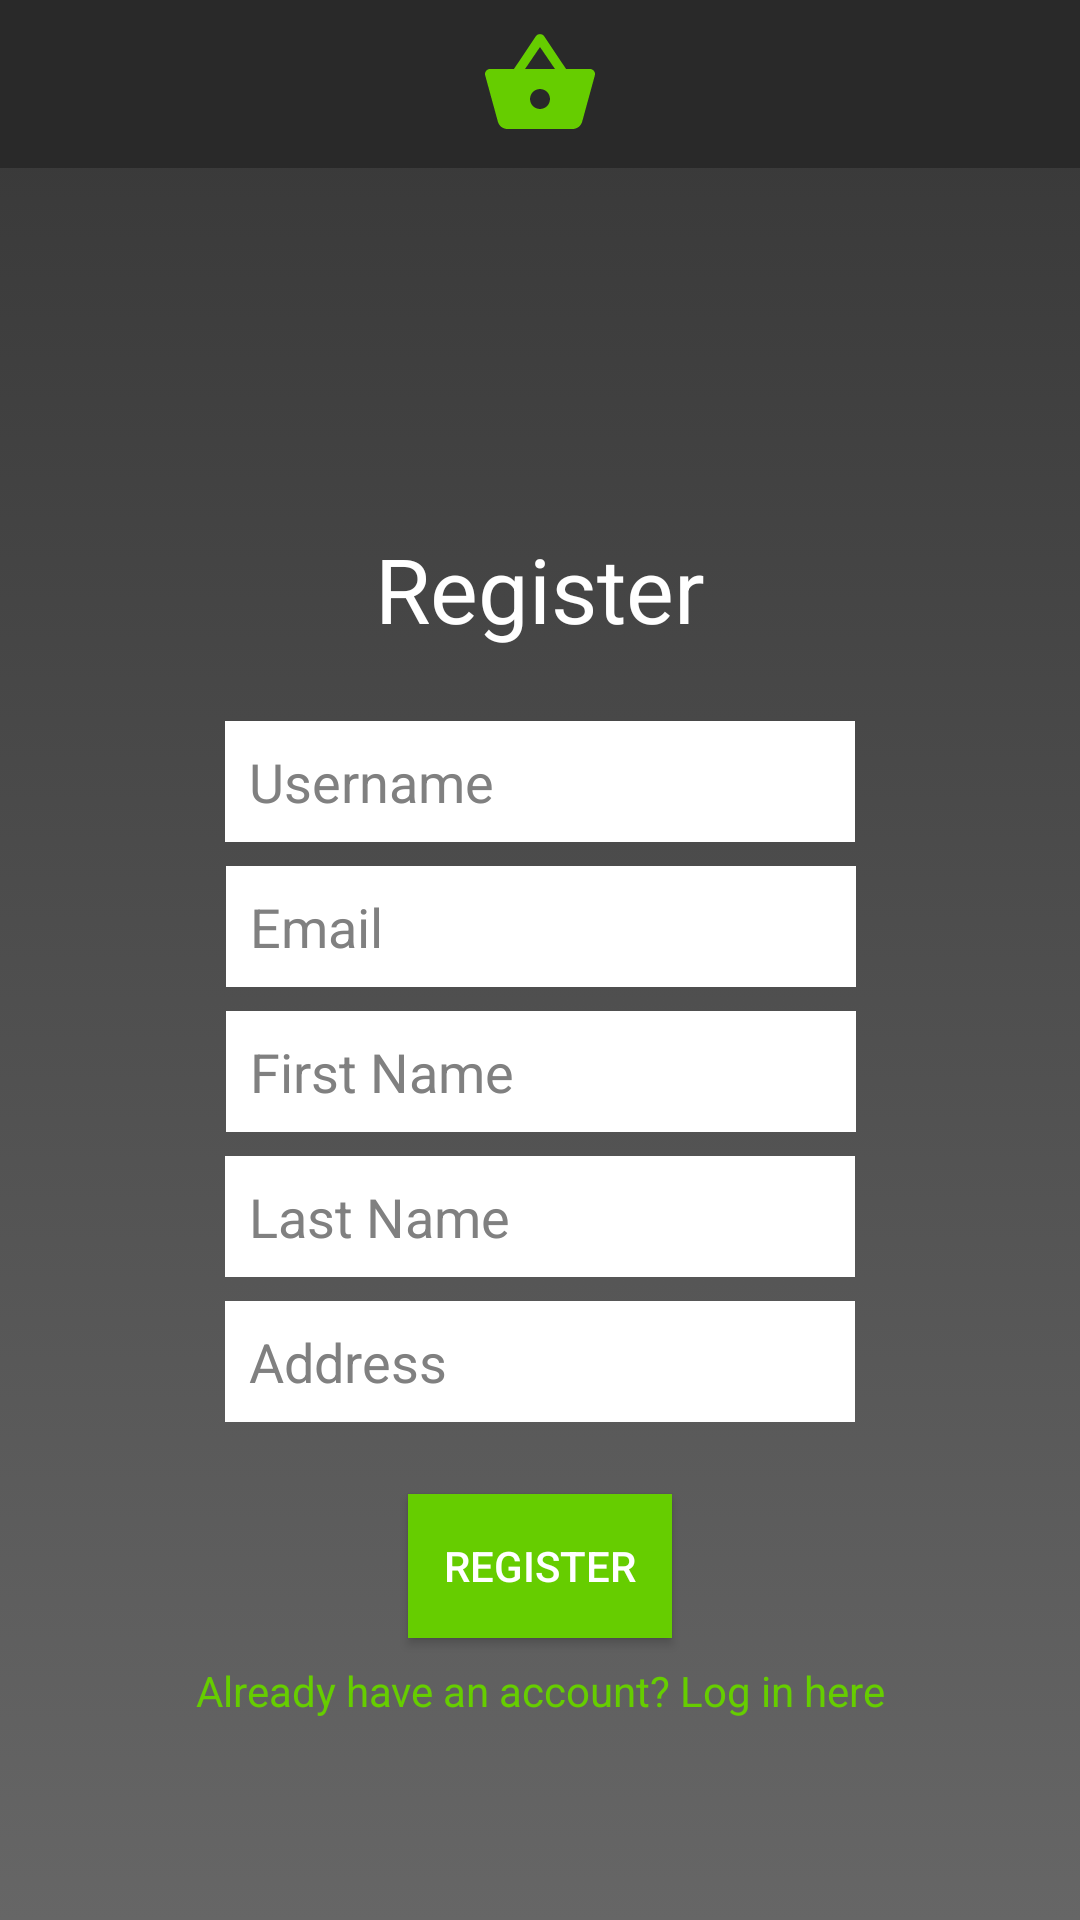

Icons on this 1080px x 1920px Android screen, each with the point to tap as (x,y):
shopping basket: (540,81)
